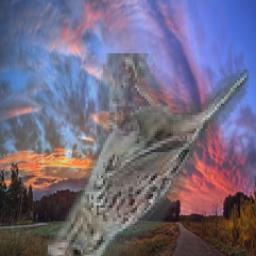Sparrow: (48, 53, 250, 256)
